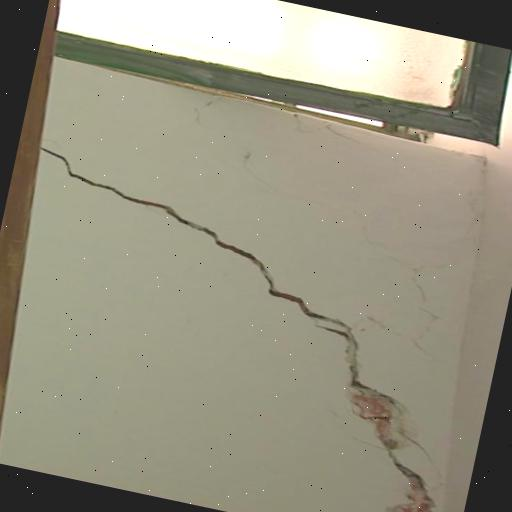spalling: (44, 141, 437, 512)
